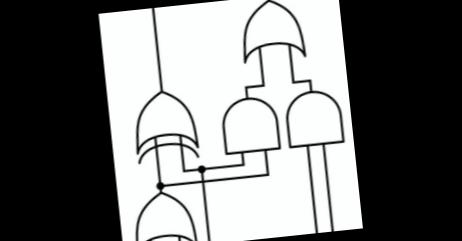and: (216, 89, 284, 158), (280, 82, 347, 152)
or: (234, 0, 309, 65)
xor: (127, 79, 204, 166), (126, 183, 200, 241)
